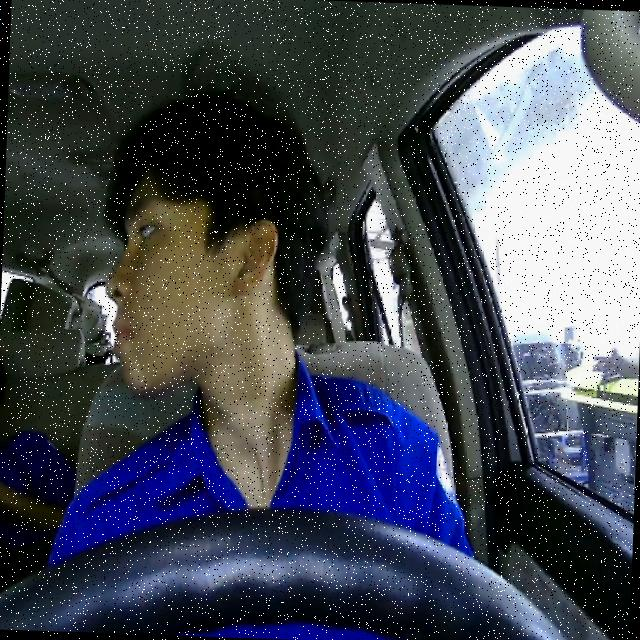seeing_left: (100, 163, 278, 404)
